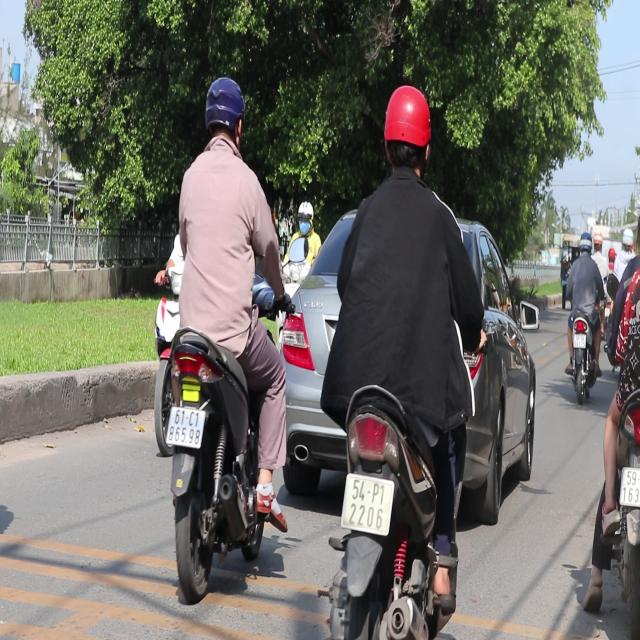helmet: (380, 83, 433, 179), (202, 74, 247, 150), (296, 200, 313, 234)
licenseplate: (314, 78, 483, 635), (146, 73, 296, 598), (585, 190, 639, 630)
nohelmet: (341, 476, 393, 536), (166, 406, 205, 448), (620, 465, 639, 502)
